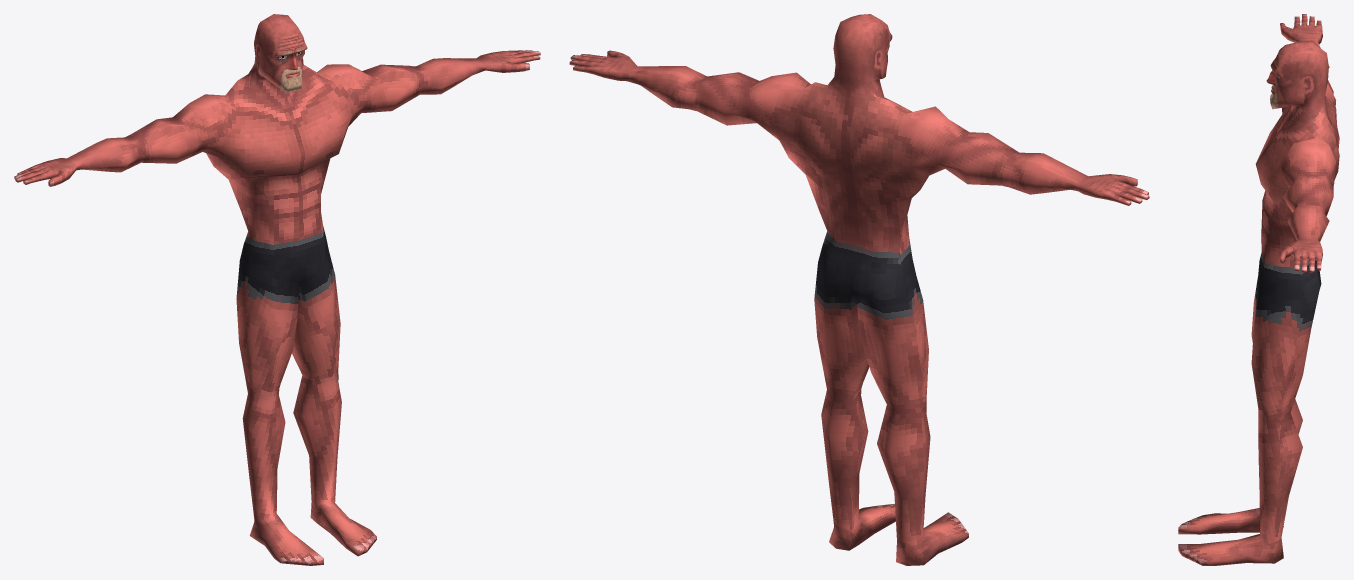
File: human.gltf
3 renders of one model, left to right at view 1: azimuth 30°, elevation 25°; view 2: azimuth 150°, elevation 25°; view 3: azimuth 270°, elevation 25°, orthographic. The views are drawn at different scales.
Visible parts, largest first — view 1: Human Base Mesh; view 2: Human Base Mesh; view 3: Human Base Mesh.
Part boxes in pixels (x1=…): Human Base Mesh: x1=14, y1=14, x2=540, y2=565; Human Base Mesh: x1=569, y1=14, x2=1149, y2=565; Human Base Mesh: x1=1178, y1=14, x2=1339, y2=565.
Size of the model in its own units: 2.16 by 1.96 by 0.5752.
Materials: 1 (1 with a texture image).
